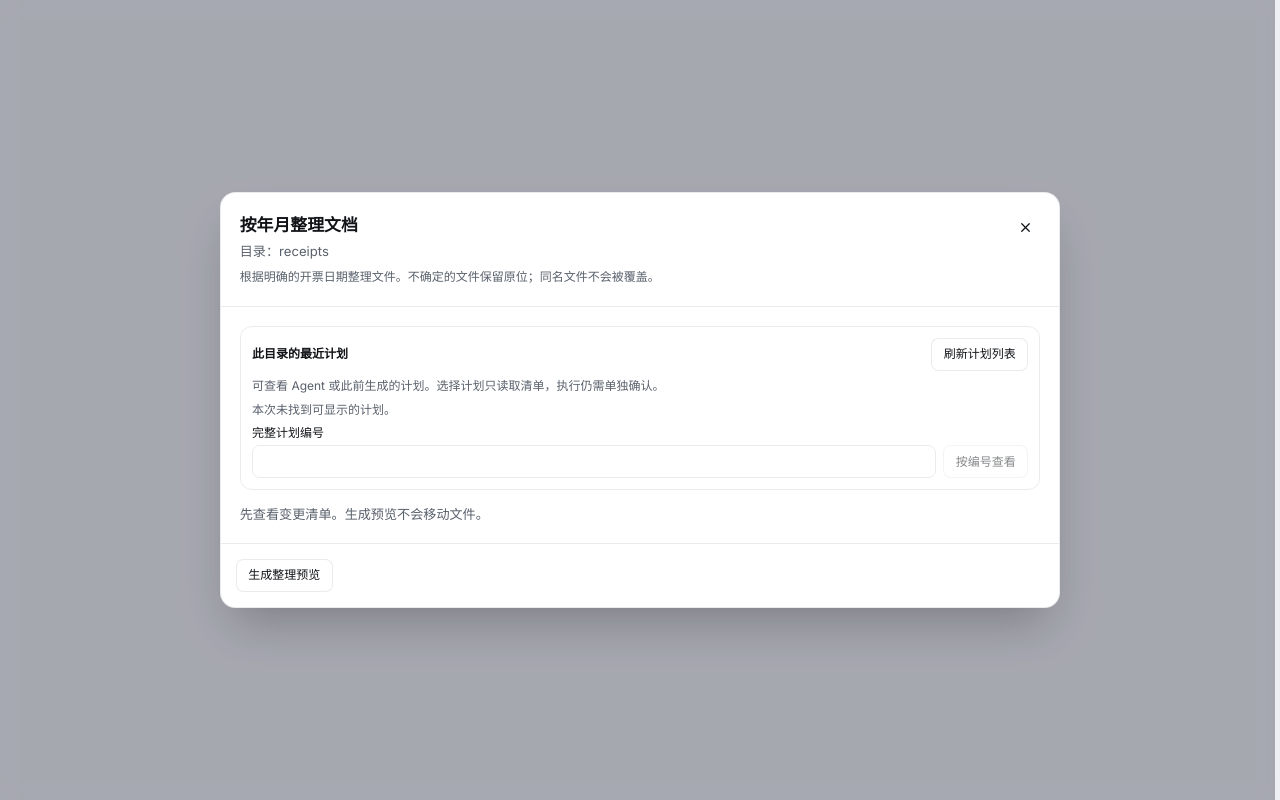
Test: search within the loaded organization plan › locally finds INVOICE.TXT without changing the full plan counts
The width and height of the screenshot is (1280, 800).
Click the button "生成整理预览": coordinates (284, 575) [236,559,332,592]
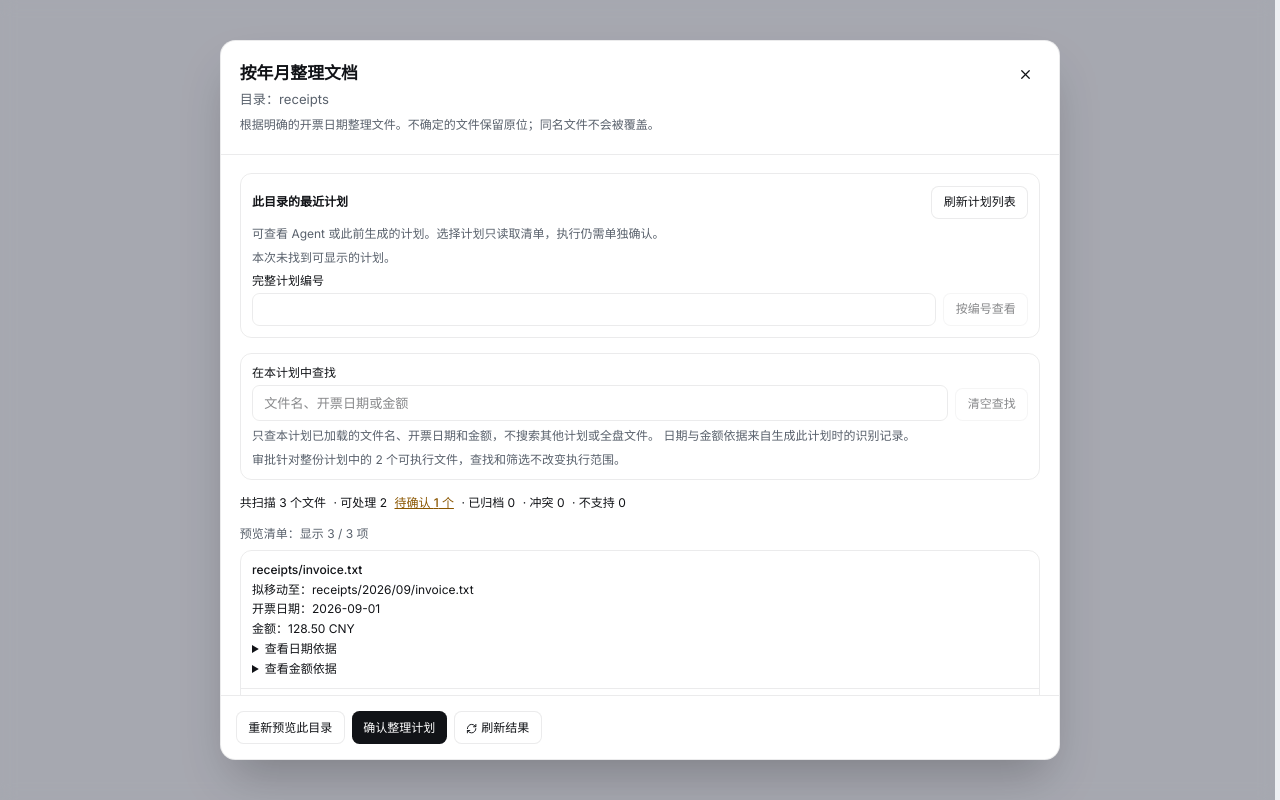
Now the text "拟移动至：receipts/2026/09/invoice.txt" is shown, box [252,582,474,596]
In the search field labelled "在本计划中查找": coordinates (600, 403) [252,385,948,421], type "INVOICE.TXT"
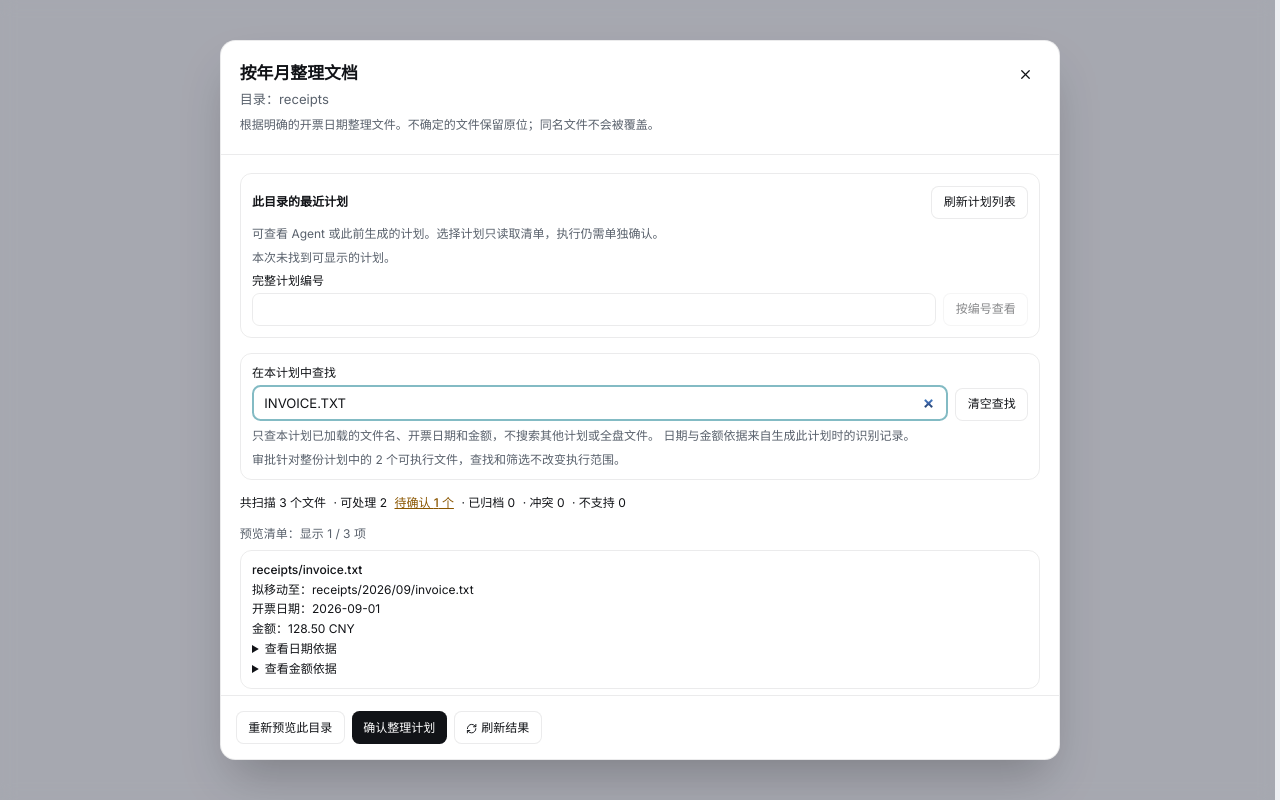
Now the text "receipts/invoice.txt" is shown, box [252,562,362,577]
Now the text "共扫描 3 个文件" is shown, box [240,495,326,511]
Now the text "预览清单：显示 1 / 3 项" is shown, box [240,526,366,541]
